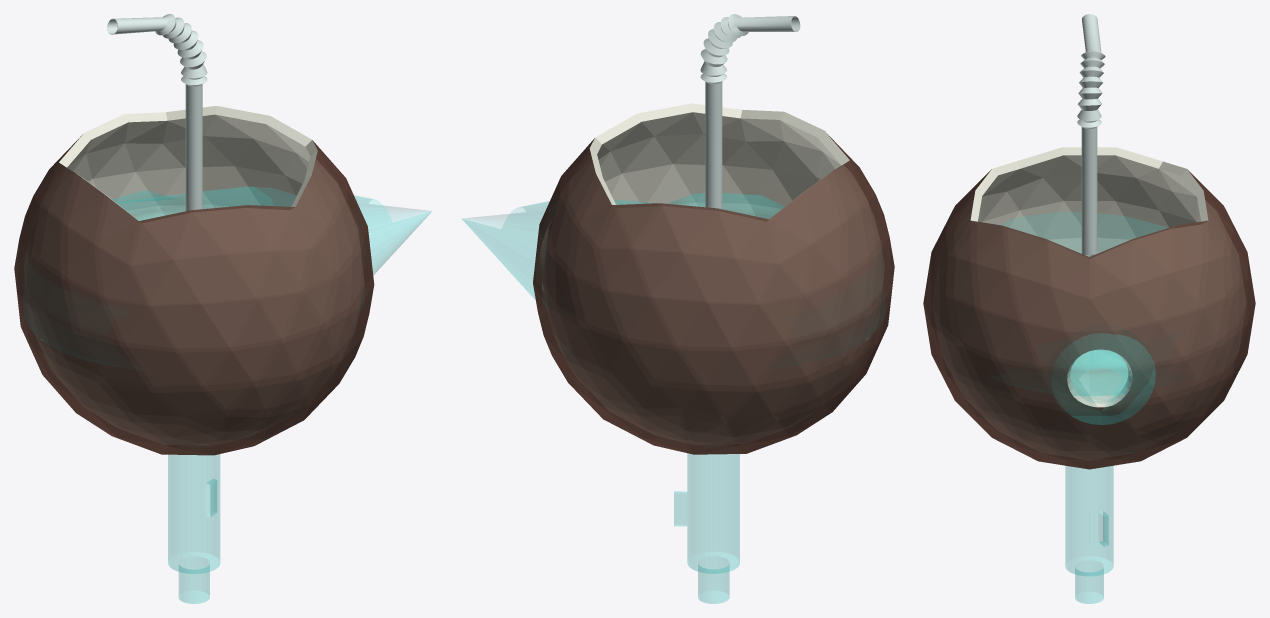
The model's file is Cocco+Cannuccia.fbx.
3 renders of one model, left to right at view 1: azimuth 30°, elevation 25°; view 2: azimuth 150°, elevation 25°; view 3: azimuth 270°, elevation 25°, orthographic. The views are drawn at different scales.
Parts seen in each view (by area): view 1: Icosfera.001, Cilindro.002, Cilindro.001, Cilindro; view 2: Icosfera.001, Cilindro.002, Cilindro.001, Cilindro; view 3: Icosfera.001, Cilindro.002, Cilindro, Cilindro.001.
Boxes of the visible parts, <box> form: Icosfera.001: <box>14,106,374,455</box>; Cilindro.002: <box>168,195,431,603</box>; Cilindro.001: <box>107,14,207,210</box>; Cilindro: <box>40,187,295,341</box>; Icosfera.001: <box>533,103,894,454</box>; Cilindro.002: <box>462,201,739,603</box>; Cilindro.001: <box>700,14,800,209</box>; Cilindro: <box>614,193,867,339</box>; Icosfera.001: <box>923,147,1255,469</box>; Cilindro.002: <box>1051,333,1155,603</box>; Cilindro: <box>1001,212,1166,396</box>; Cilindro.001: <box>1077,14,1105,256</box>.
Size of the model in its own units: 238 by 339 by 186.
